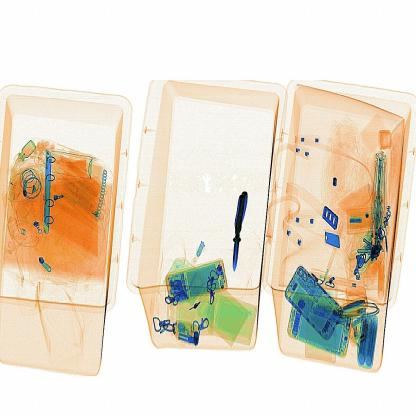gun: (223, 176, 256, 280)
